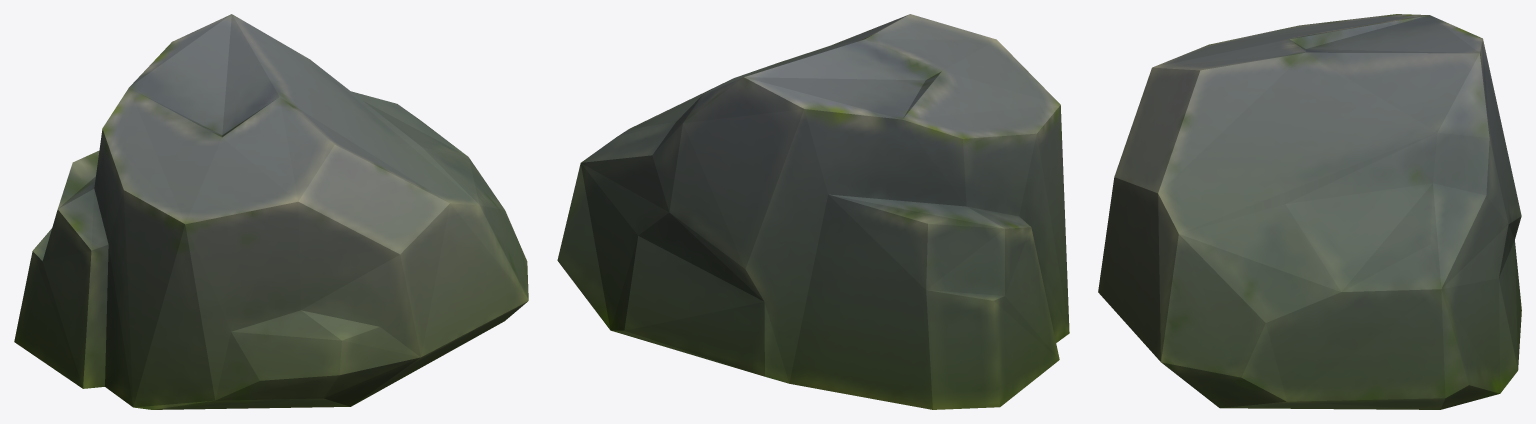
Rendered from Rock_Medium_2.gltf.
3 renders of one model, left to right at view 1: azimuth 30°, elevation 25°; view 2: azimuth 150°, elevation 25°; view 3: azimuth 270°, elevation 25°, orthographic. The views are drawn at different scales.
Parts seen in each view (by area): view 1: Rock_Medium_2; view 2: Rock_Medium_2; view 3: Rock_Medium_2.
Boxes of the visible parts, left/top/right/bottom form: Rock_Medium_2: left=14, top=14, right=528, bottom=409; Rock_Medium_2: left=557, top=14, right=1069, bottom=409; Rock_Medium_2: left=1098, top=14, right=1521, bottom=409.
Bounding box in the file's own units: 3.05 × 1.87 × 2.48.
Materials: 1 (1 with a texture image).
